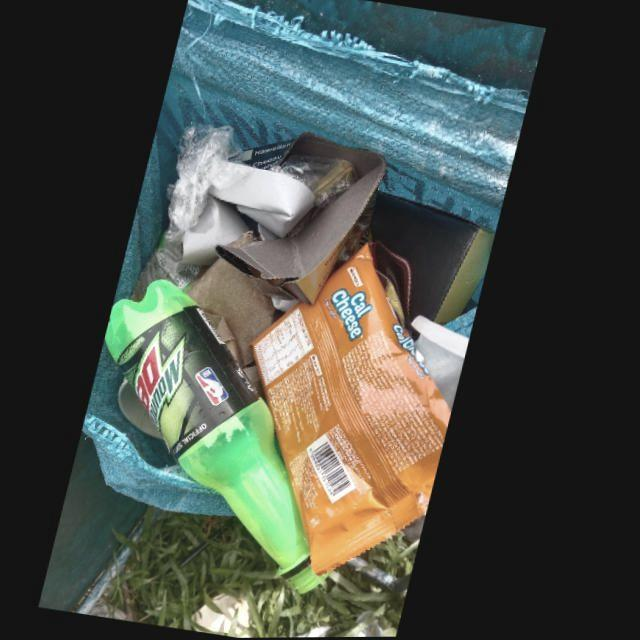cardboard: (220, 130, 390, 304), (373, 192, 499, 330)
food_wrapper: (256, 247, 459, 578)
plastic_bottle: (109, 280, 337, 596)
